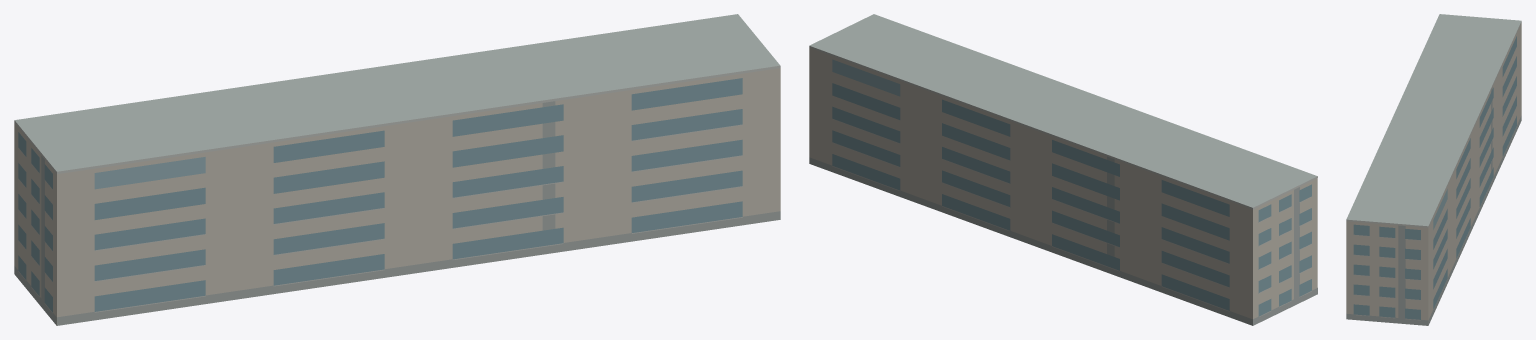
Rendered from residential-79187439-d33e-4bf9-ab31-27296586fa84.glb.
3 views of the same model, side by side, from view 1: azimuth 30°, elevation 25°; view 2: azimuth 150°, elevation 25°; view 3: azimuth 270°, elevation 25° (orthographic). The views are drawn at different scales.
Visible parts, largest first — view 1: residential-79187439-d33e-4bf9-ab31-27296586fa84.tmp; view 2: residential-79187439-d33e-4bf9-ab31-27296586fa84.tmp; view 3: residential-79187439-d33e-4bf9-ab31-27296586fa84.tmp.
Boxes of the visible parts, x1,y1,x2,y2 form: residential-79187439-d33e-4bf9-ab31-27296586fa84.tmp: (14,14,780,325); residential-79187439-d33e-4bf9-ab31-27296586fa84.tmp: (809,14,1317,325); residential-79187439-d33e-4bf9-ab31-27296586fa84.tmp: (1346,14,1521,325).
Size of the model in its own units: 69.64 by 15.25 by 24.34.
